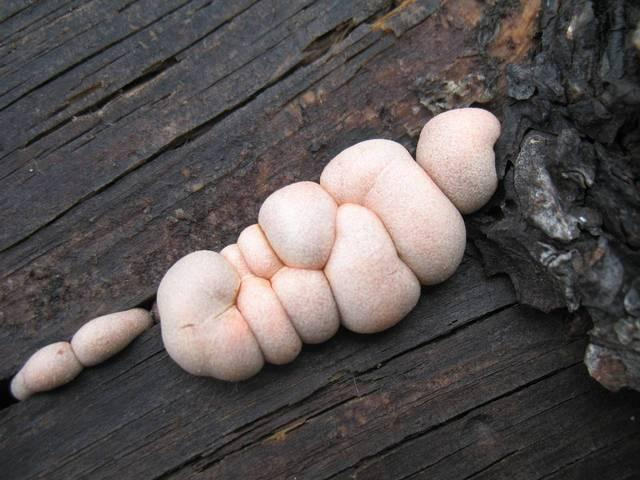Non-edible Mushroom: (154, 106, 501, 382), (318, 137, 466, 285), (155, 248, 265, 382), (8, 305, 153, 401), (414, 105, 501, 214), (69, 306, 153, 366), (8, 339, 82, 401)
